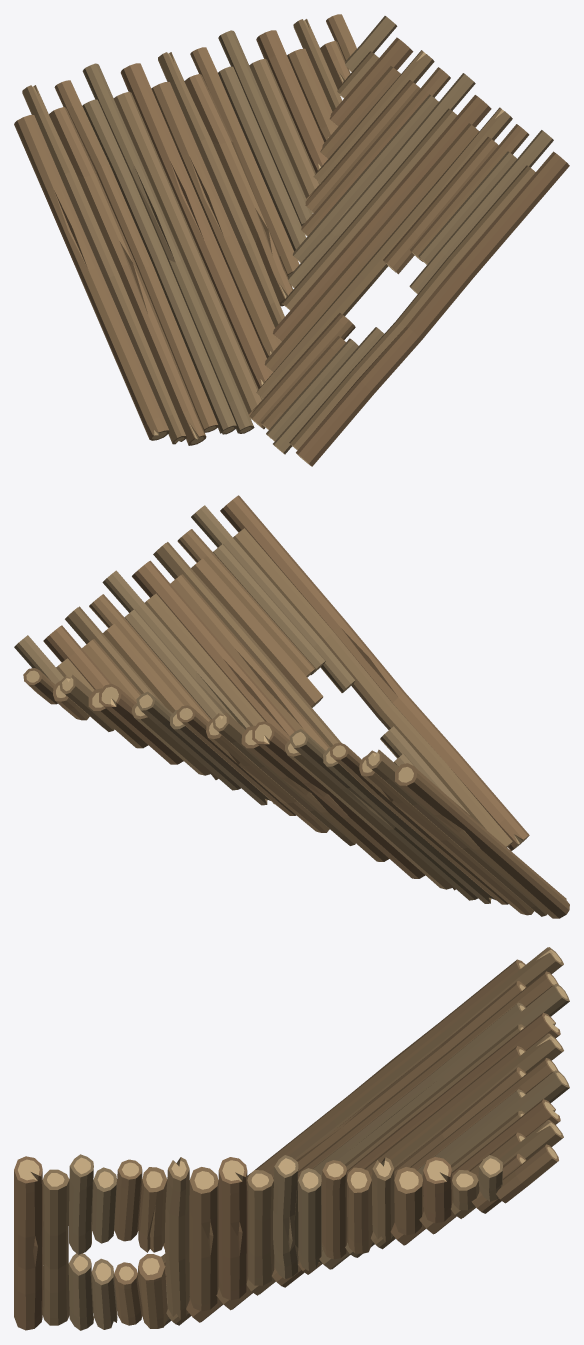
Rendered from rpgpp_ag_roof_01_9x4x3_corner_01_chimney_01.fbx.
The picture shows the model from 3 angles, top to bottom: view 1: azimuth 30°, elevation 25°; view 2: azimuth 150°, elevation 25°; view 3: azimuth 270°, elevation 25°; orthographic projection. The views are drawn at different scales.
Visible parts, largest first — view 1: rpgpp_ag_roof_01_9x4x3_corner_01_chimney_01; view 2: rpgpp_ag_roof_01_9x4x3_corner_01_chimney_01; view 3: rpgpp_ag_roof_01_9x4x3_corner_01_chimney_01.
Part boxes in pixels (left/top/right/bottom): rpgpp_ag_roof_01_9x4x3_corner_01_chimney_01: left=14, top=14, right=569, bottom=466; rpgpp_ag_roof_01_9x4x3_corner_01_chimney_01: left=14, top=495, right=569, bottom=918; rpgpp_ag_roof_01_9x4x3_corner_01_chimney_01: left=14, top=947, right=569, bottom=1330.
Bounding box in the file's own units: 8.16 × 5.53 × 8.15.
